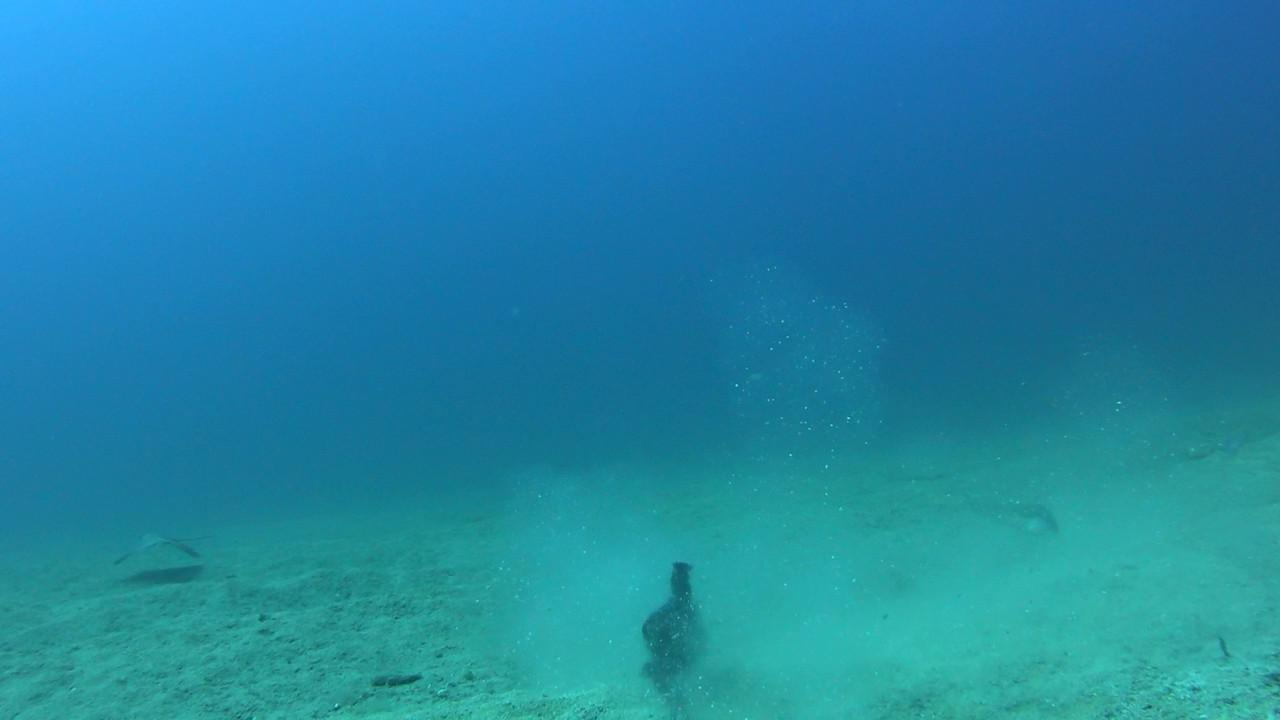myliobatis: (103, 525, 220, 571)
